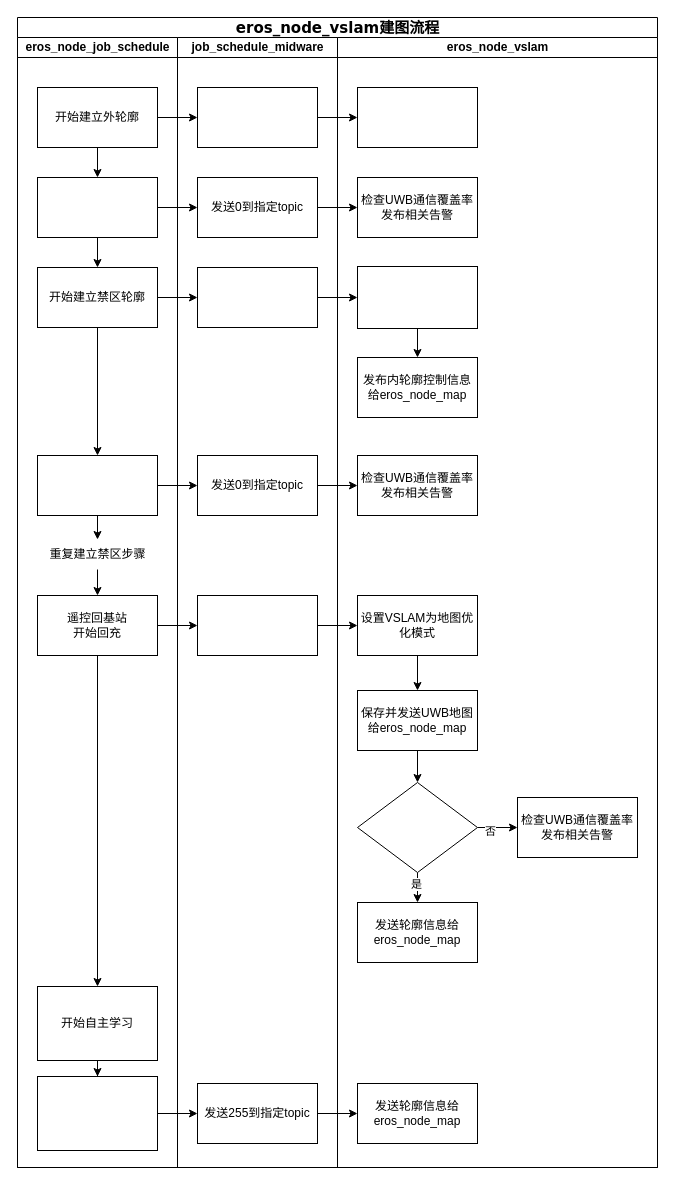
Image size: 675x1185. Some labels were removed from this diagram. Each missing label, with the centre of its shape:
"UWB通信 覆盖率良好？" belongs at point (417, 827).
"发送-1到指定topic" belongs at point (257, 297).
"发送1到指定topic" belongs at point (257, 117).
"发送254到指定topic" belongs at point (257, 625).
"结束建立外轮廓" belongs at point (97, 207).
"结束建立禁区轮廓" belongs at point (97, 485).
"自主回基站 开始回充" belongs at point (97, 1113).
"设置VSLAM为 建立内轮廓模式" belongs at point (417, 297).
"设置VSLAM为 建立外轮廓模式" belongs at point (417, 117).
